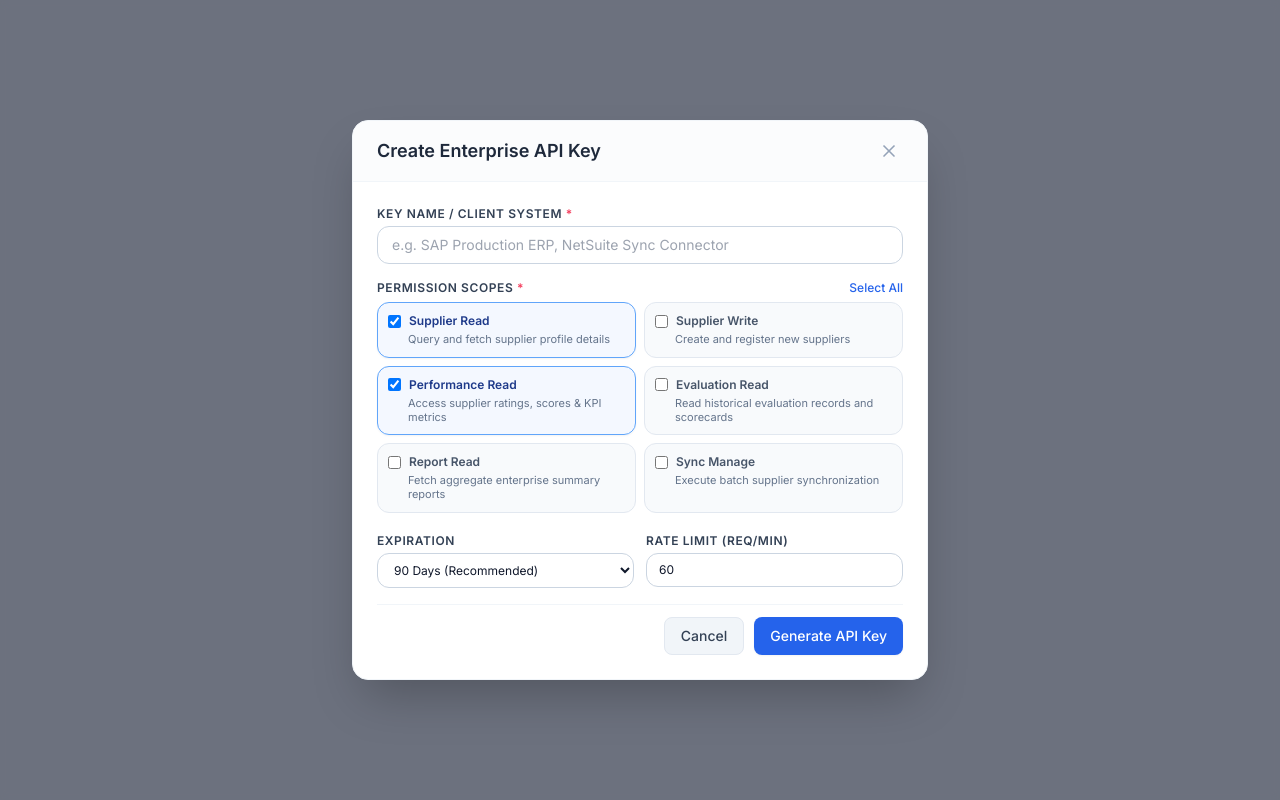
Test: Phase 16 — Enterprise Integrations Frontend Suite › INT-FE-06: ApiKeyManagerModal handles creation flow and displays one-time secret
Expected: the heading "Create Enterprise API Key" is shown, [377, 137, 601, 165]
Type "New Custom Key" into the field with placeholder "e.g. SAP Production ERP, NetSuite Sync Connector" at (640, 245), box [377, 226, 903, 264]
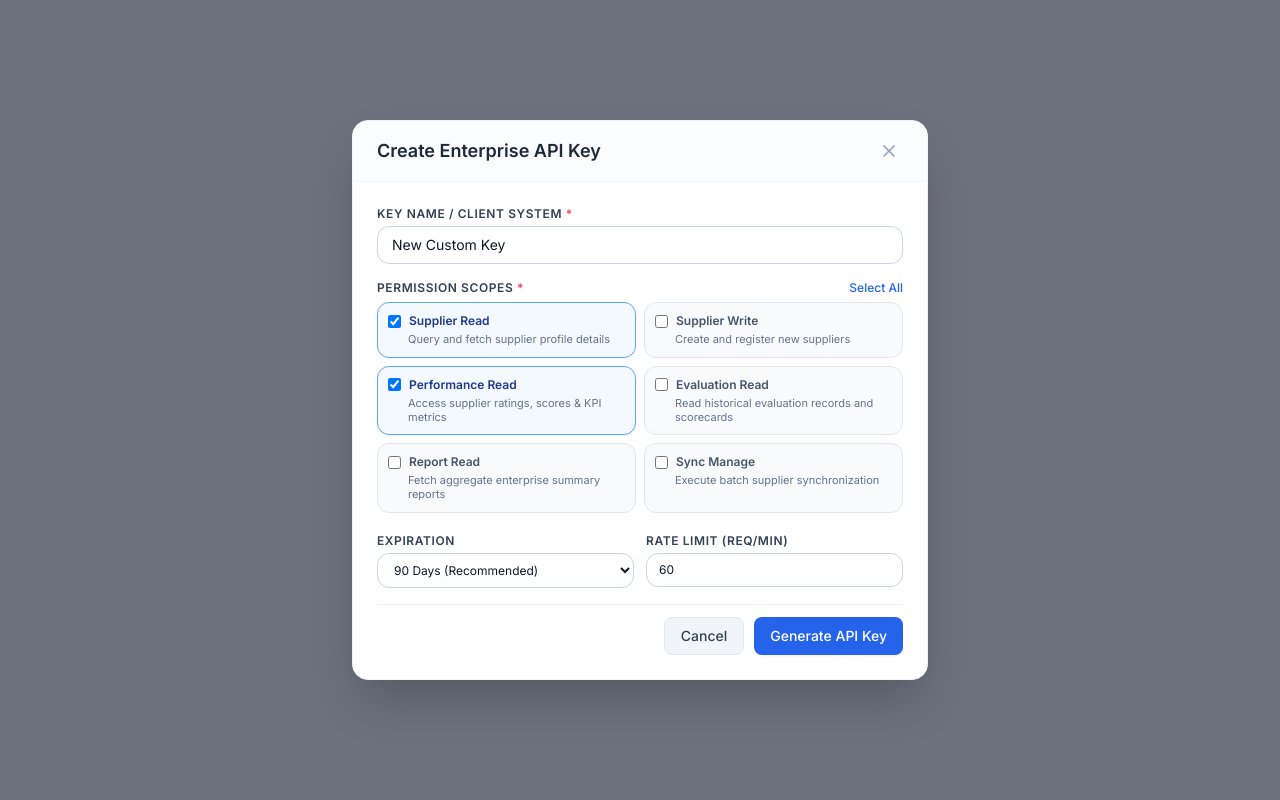
Click the button "Generate API Key" at (829, 636), box [754, 617, 903, 655]
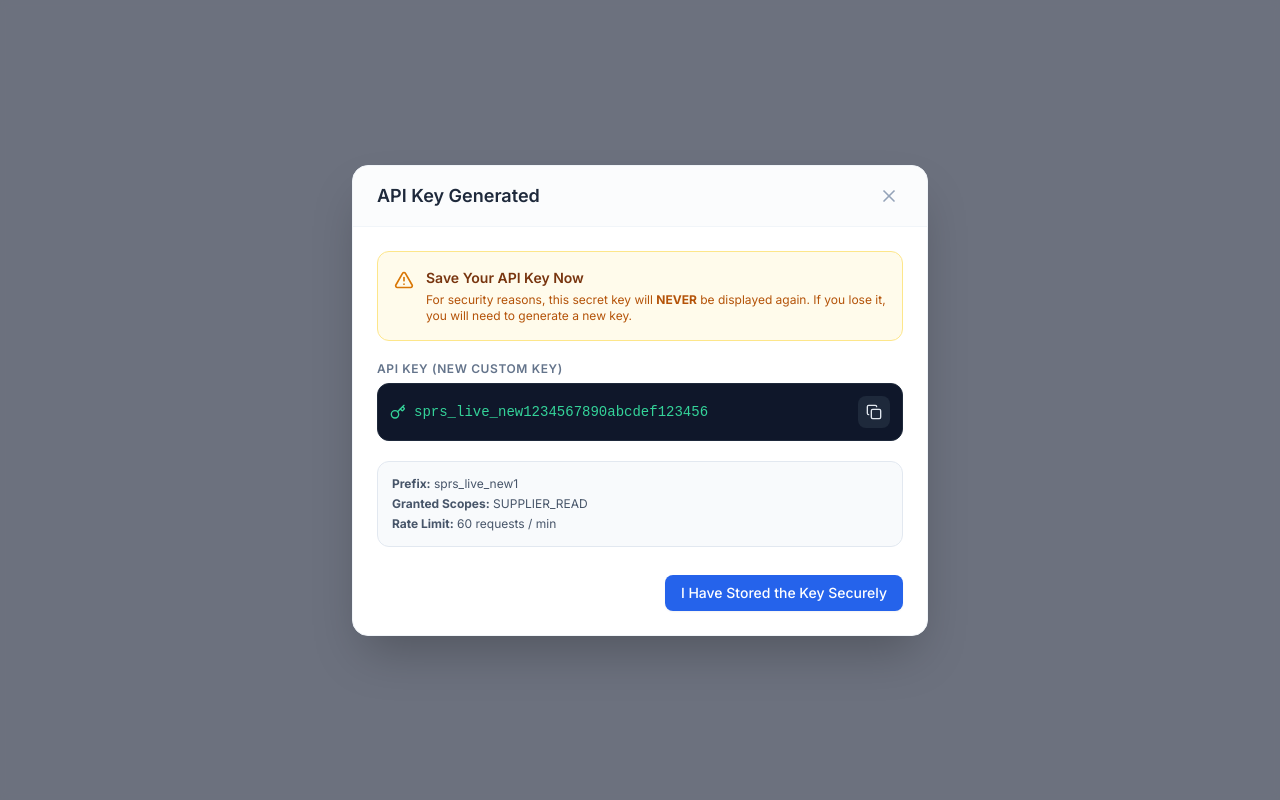
Now the heading "API Key Generated" is shown, box [377, 182, 540, 210]
Now the text "sprs_live_new1234567890abcdef123456" is shown, box [414, 404, 708, 420]
Now the heading "Save Your API Key Now" is shown, box [426, 268, 584, 286]
